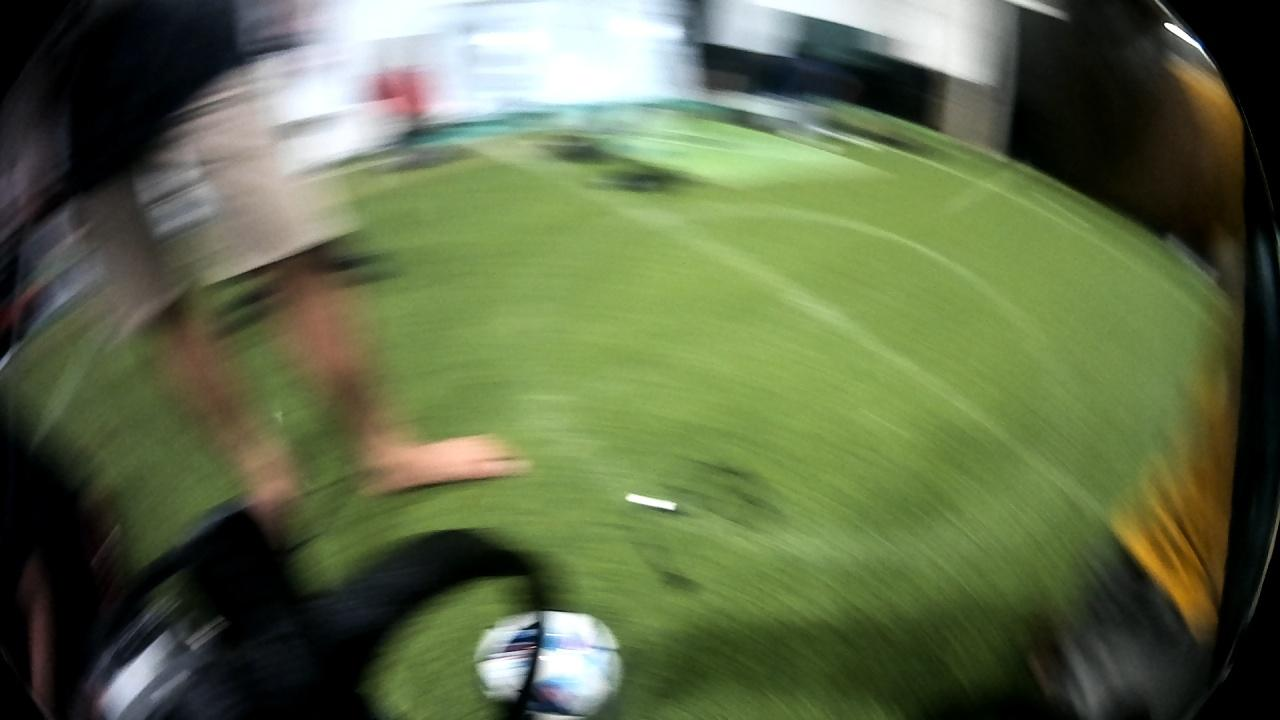ball: (474, 609, 626, 717)
